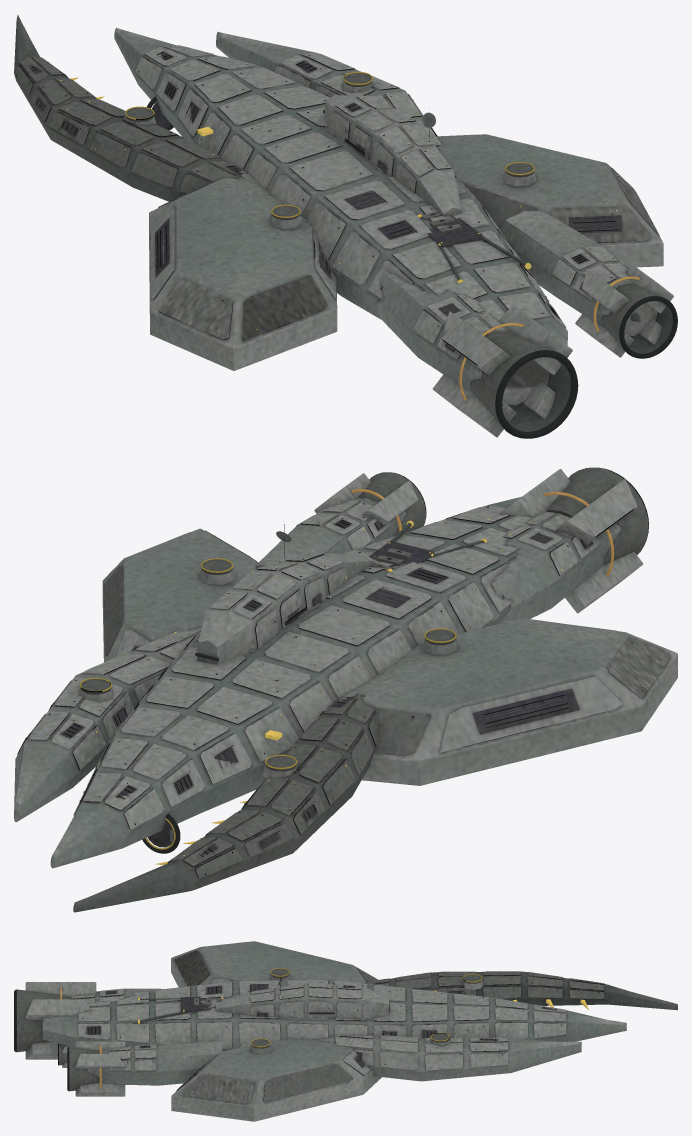
File: oathbreaker_hero.glb
3 renders of one model, top to bottom at view 1: azimuth 30°, elevation 25°; view 2: azimuth 150°, elevation 25°; view 3: azimuth 270°, elevation 25°, orthographic. The views are drawn at different scales.
Parts seen in each view (by area): view 1: HullBaked; view 2: HullBaked; view 3: HullBaked.
Part boxes in pixels (<box>): HullBaked: <box>14,14,677,438</box>; HullBaked: <box>14,467,677,912</box>; HullBaked: <box>14,941,677,1121</box>.
Size of the model in its own units: 191 by 61.4 by 341.
Materials: 1 (1 with a texture image).
